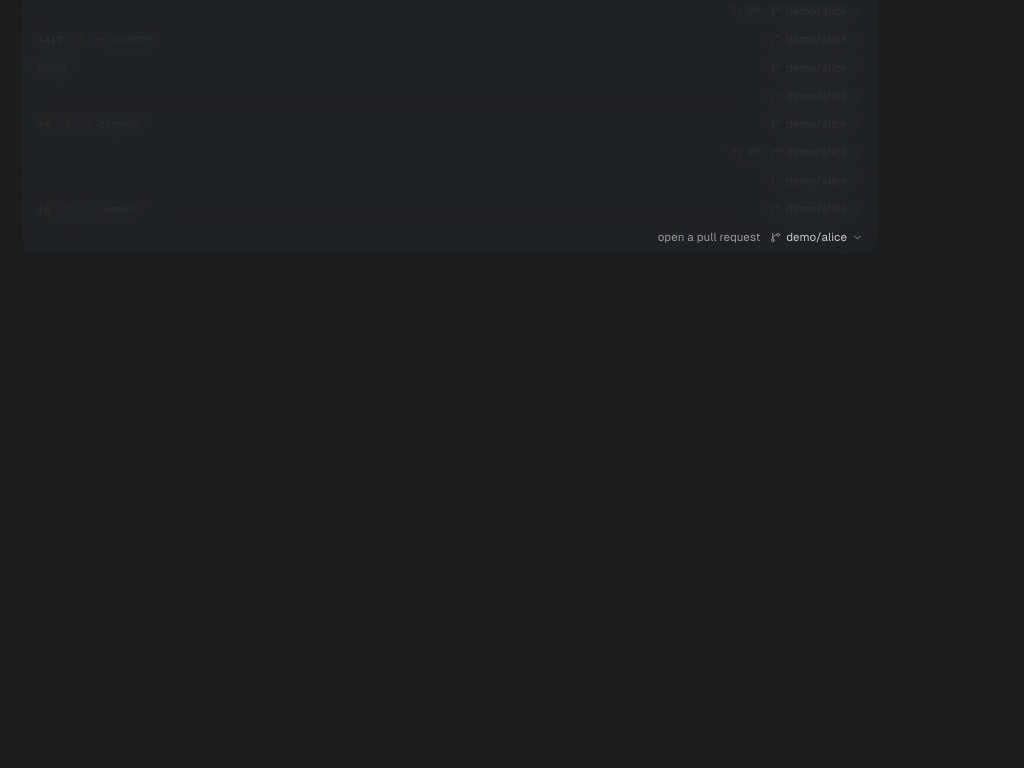
Test: the branch menu › lists the branches and ticks the one the worktree is on
The image size is (1024, 768).
Click the button with class "wsbranchpick" showing "demo/alice".
click(817, 238)  # box [761,226,872,249]
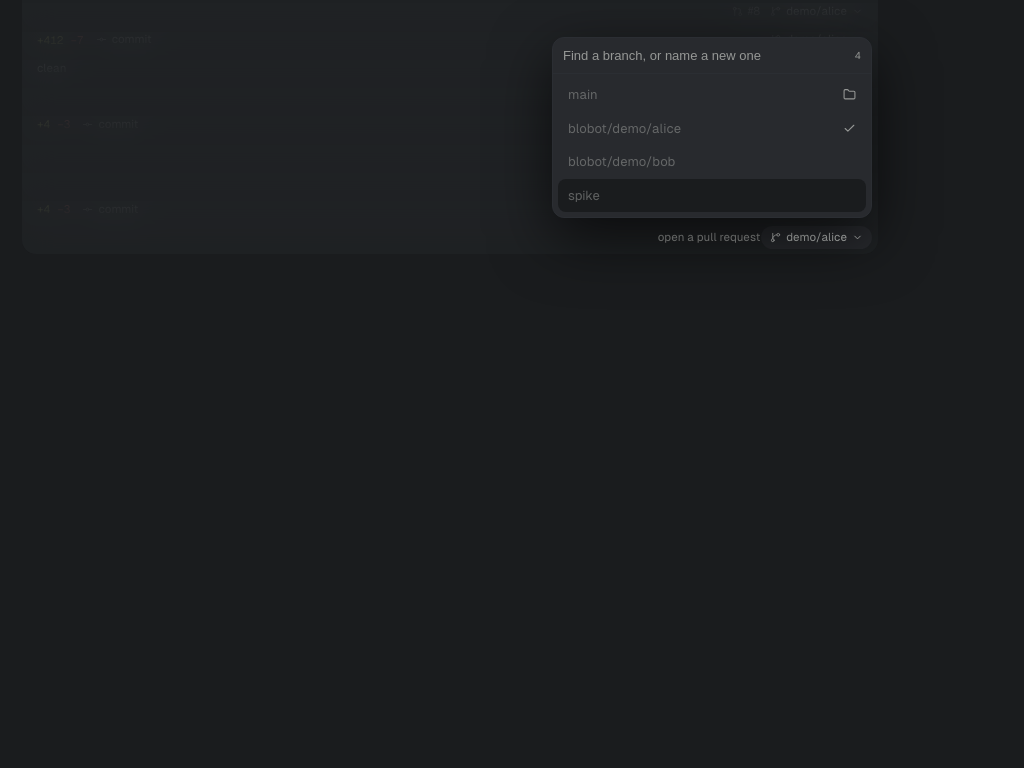
Expected: the option with class "branchitem" showing "spike" is shown, [558,178,866,212]
Expected: the element with class "selecttick" is shown, [843,122,856,135]
